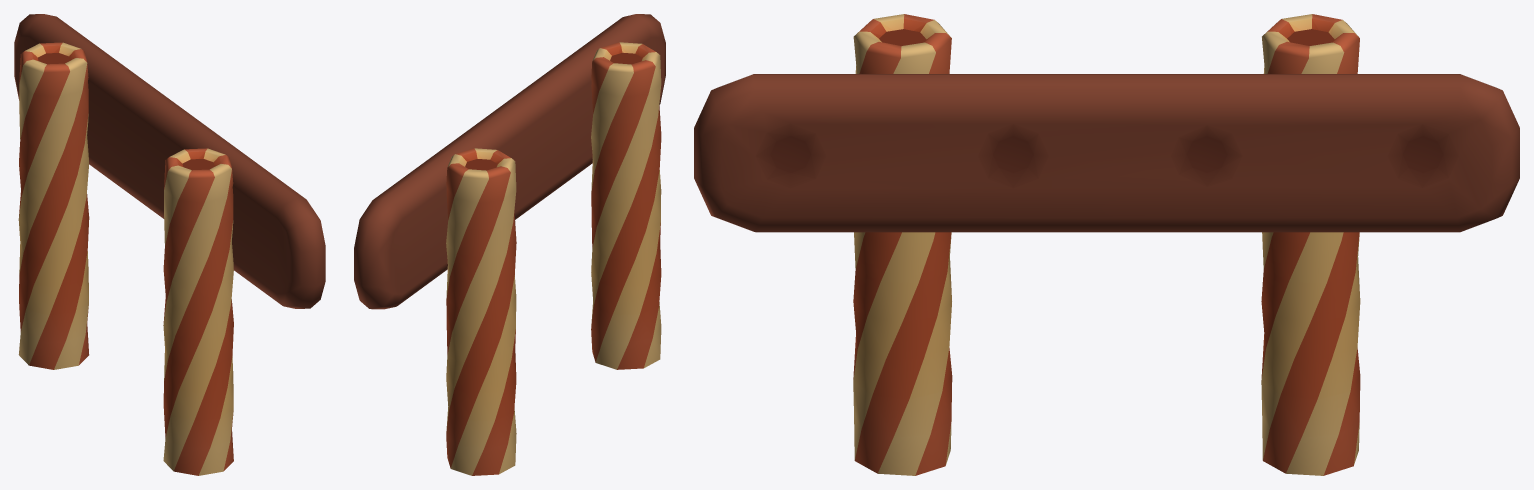
The model's file is sw_fence.glb.
The picture shows the model from 3 angles, left to right: view 1: azimuth 30°, elevation 25°; view 2: azimuth 150°, elevation 25°; view 3: azimuth 270°, elevation 25°; orthographic projection. The views are drawn at different scales.
Parts seen in each view (by area): view 1: sw_fence; view 2: sw_fence; view 3: sw_fence.
Boxes of the visible parts, x1=… form: sw_fence: x1=14, y1=14, x2=325, y2=475; sw_fence: x1=354, y1=14, x2=665, y2=475; sw_fence: x1=694, y1=14, x2=1519, y2=475.
Size of the model in its own units: 0.4257 by 1.34 by 2.37.
